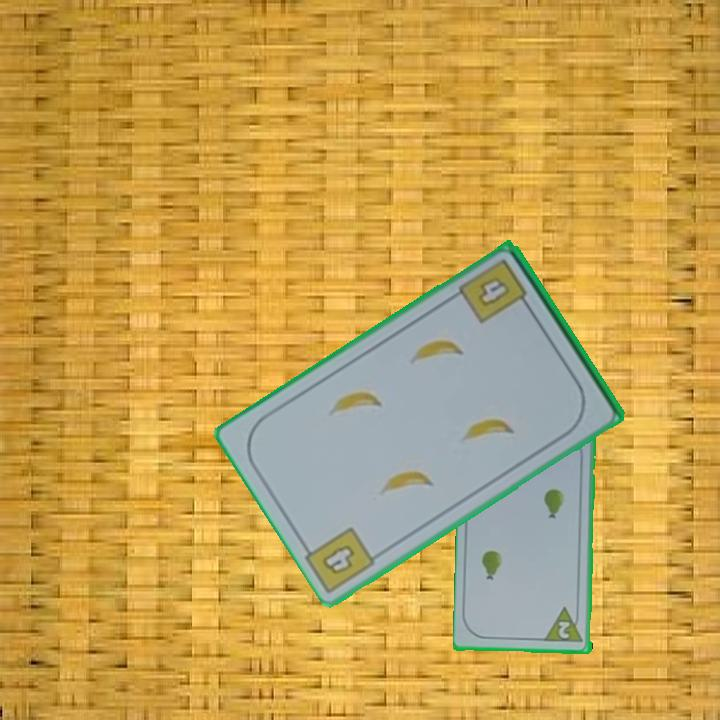2p: (555, 618, 574, 642)
4b: (455, 255, 535, 327), (318, 541, 358, 579)
